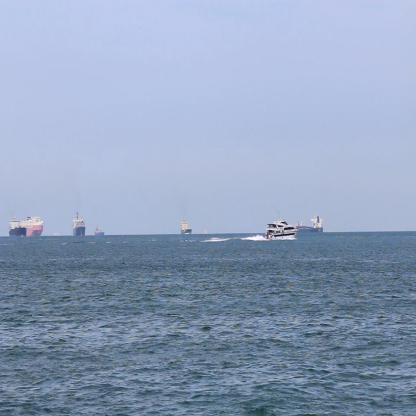Container Ship: (3, 215, 42, 236), (294, 212, 322, 234), (72, 207, 85, 238), (6, 219, 25, 237), (177, 214, 191, 233), (92, 220, 103, 236)
